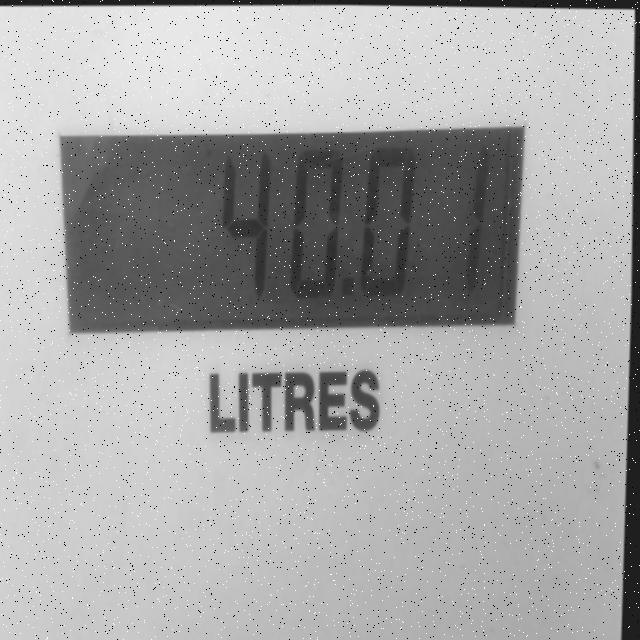.: (331, 258, 366, 319)
0: (201, 145, 291, 301), (350, 147, 430, 301), (282, 143, 352, 303)
1: (442, 143, 505, 299)
